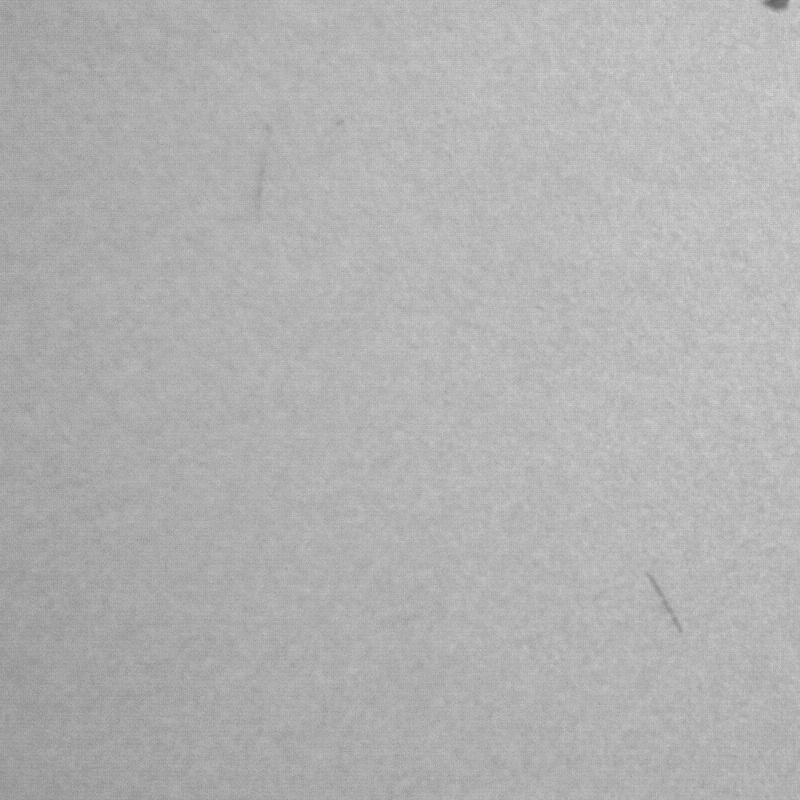defect: (640, 571, 688, 640), (254, 122, 266, 221), (757, 1, 796, 13)
